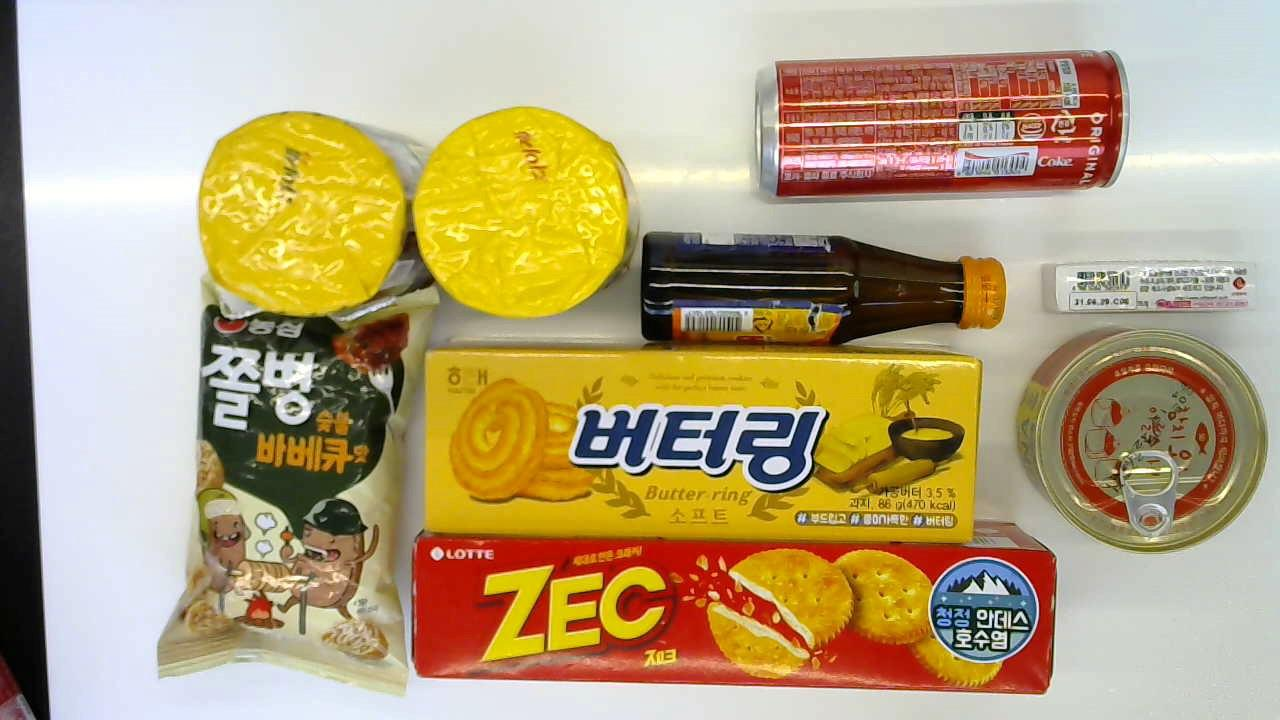buttering: (426, 336, 979, 542)
coke: (752, 47, 1124, 197)
diget_choco: (195, 111, 447, 311)
diget_ori: (409, 108, 639, 314)
jjolbyung_ori: (154, 289, 440, 694)
spearmint: (1039, 260, 1255, 311)
tuna: (1016, 327, 1270, 552)
vita500: (641, 229, 1006, 351)
zec: (408, 529, 1056, 696)
